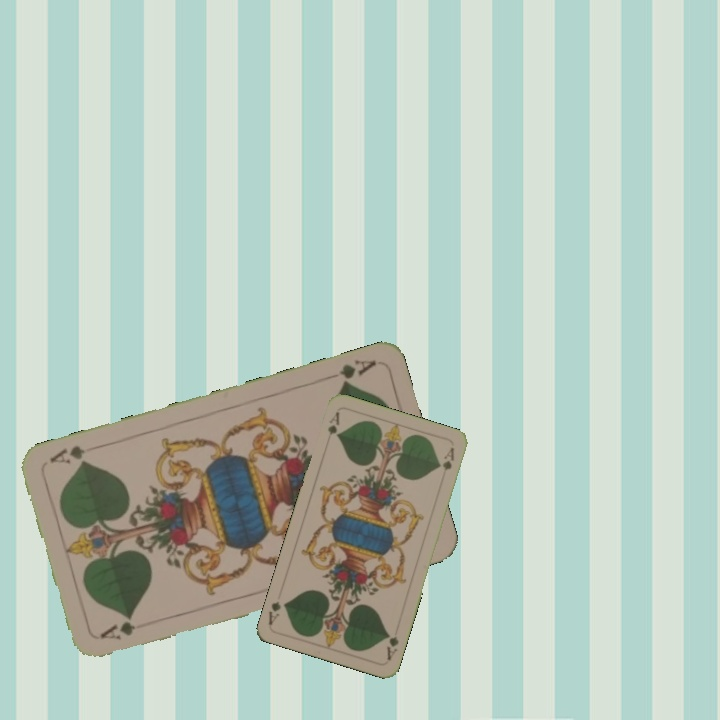GA: (334, 355, 379, 388), (95, 618, 154, 643), (323, 407, 342, 439), (383, 630, 401, 663)
